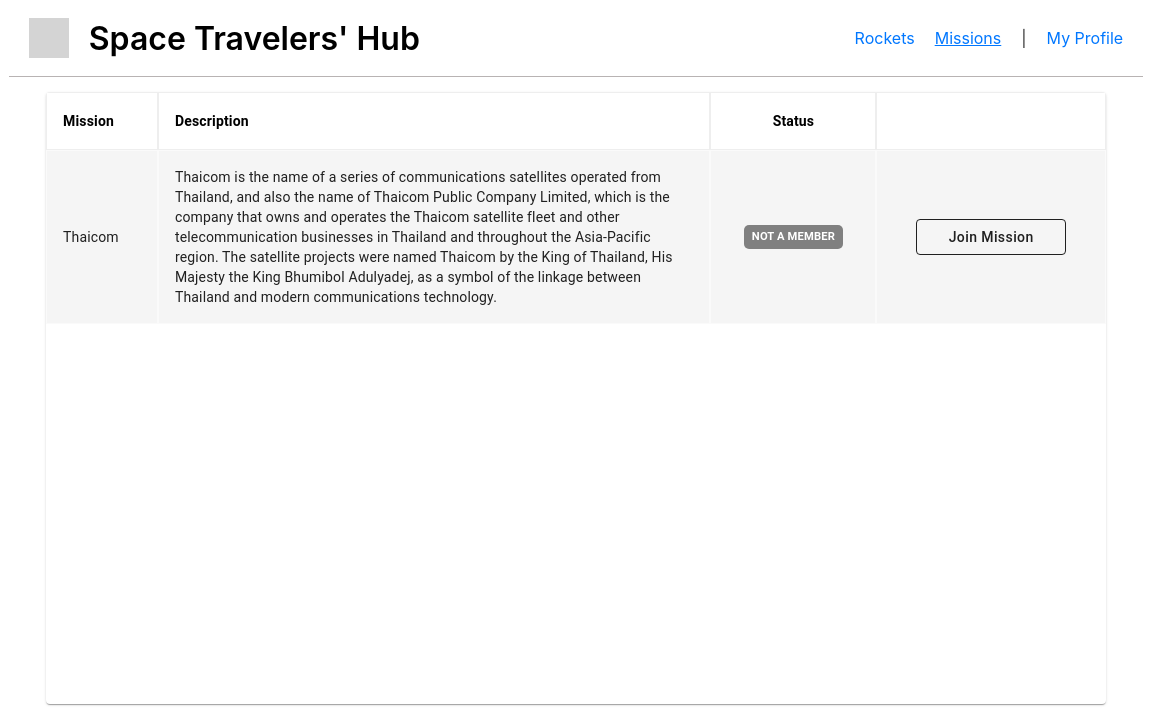
Test case: App › navigates to "Profile" and displays user subscriptions
The image size is (1152, 720).
Click the link "My Profile" at coordinates (1085, 38), box [1047,28,1123,48]
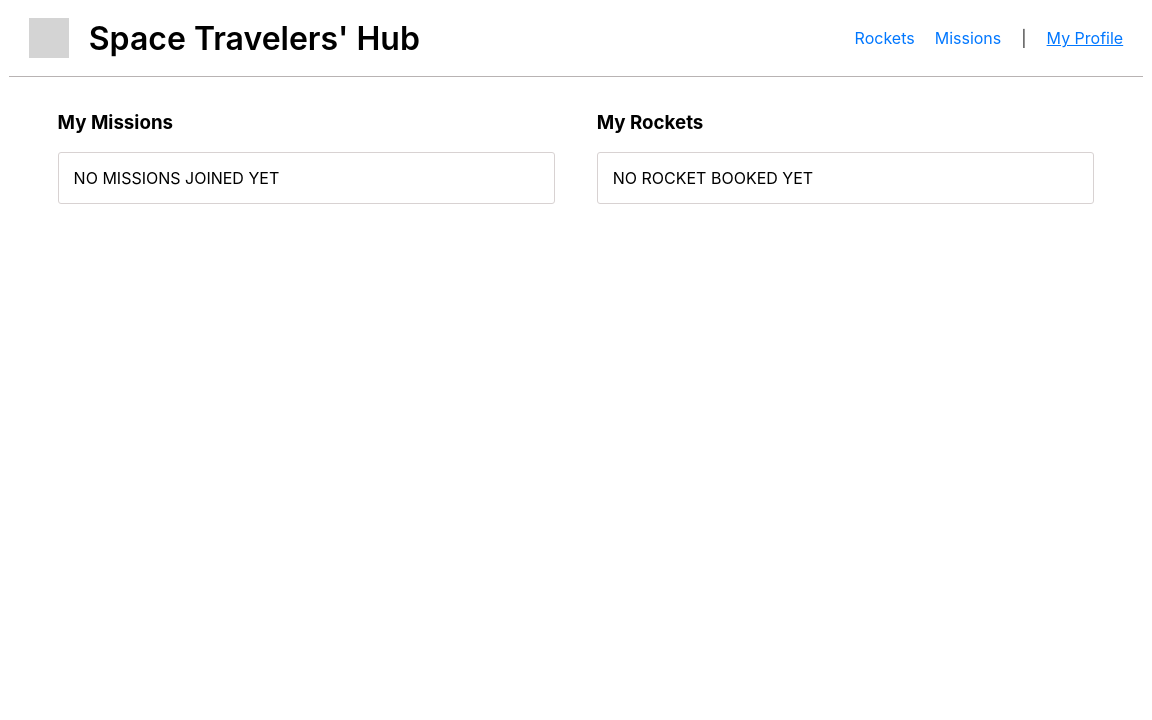
Expected: the list item "NO MISSIONS JOINED YET" is shown, [74,168,279,188]
Expected: the list item "NO ROCKET BOOKED YET" is shown, [613,168,813,188]
